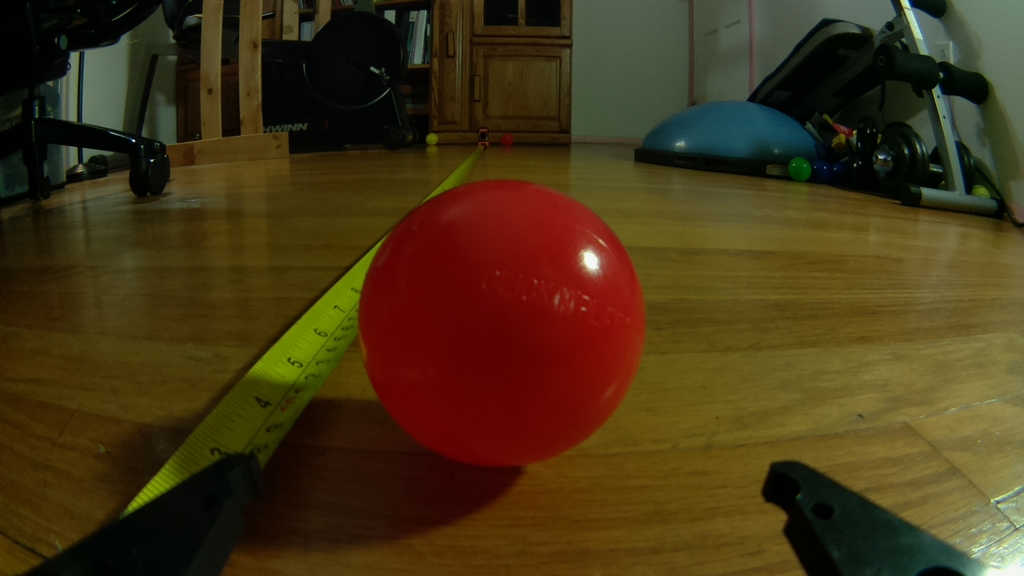ball: (356, 174, 648, 472)
